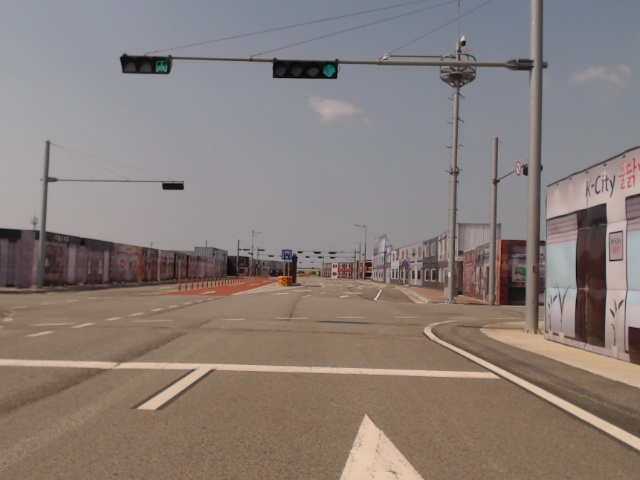straight_green_4: (271, 59, 339, 78)
